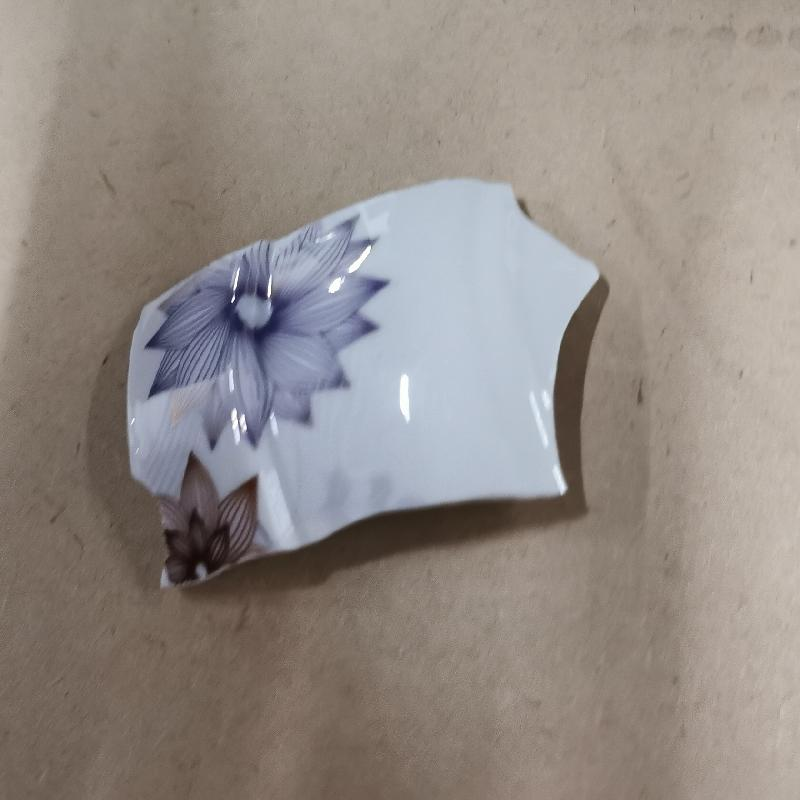ceram: (122, 179, 603, 588)
